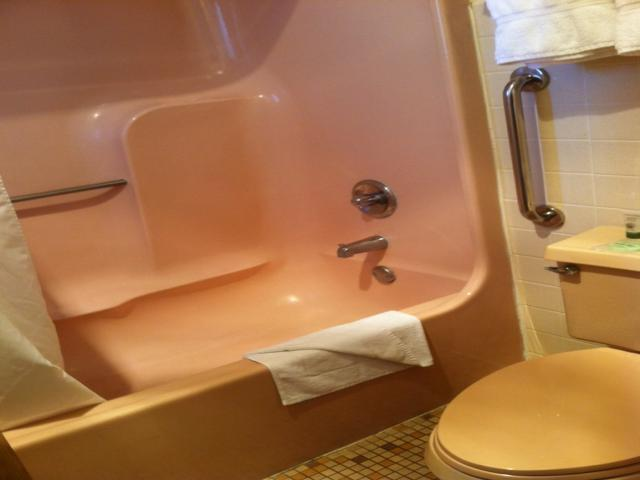Door-handle: (499, 61, 558, 237)
